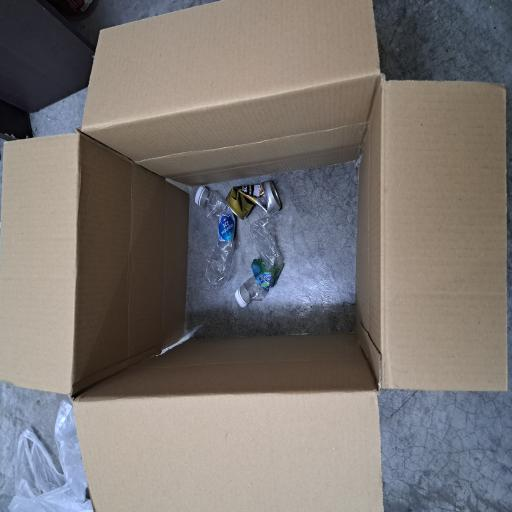can: (221, 301, 248, 374)
cardboard: (0, 0, 383, 512)
plastic bottle: (156, 328, 222, 382), (171, 269, 237, 316)
plastic bottle cap: (152, 311, 167, 327), (232, 256, 244, 276)
